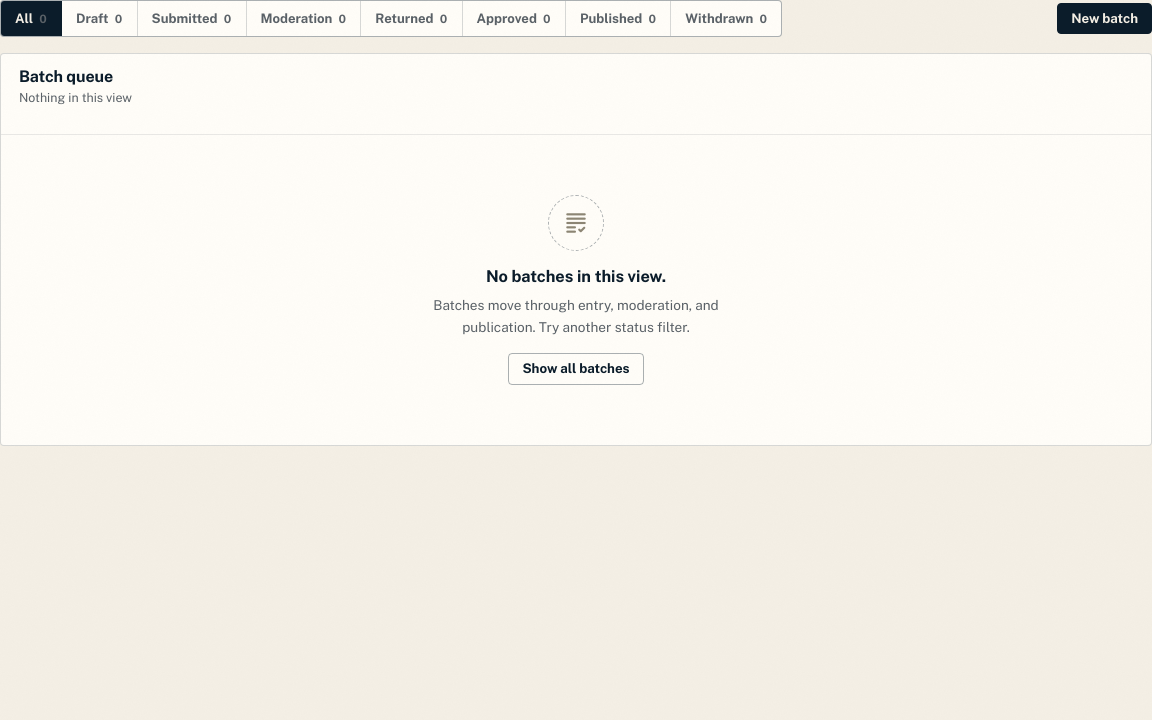
Test: new batch creation › creates the selected batch, refreshes the queue, and announces the reference
Step 1. Click the button "New batch" → (1105, 18), box [1057,2,1151,34]
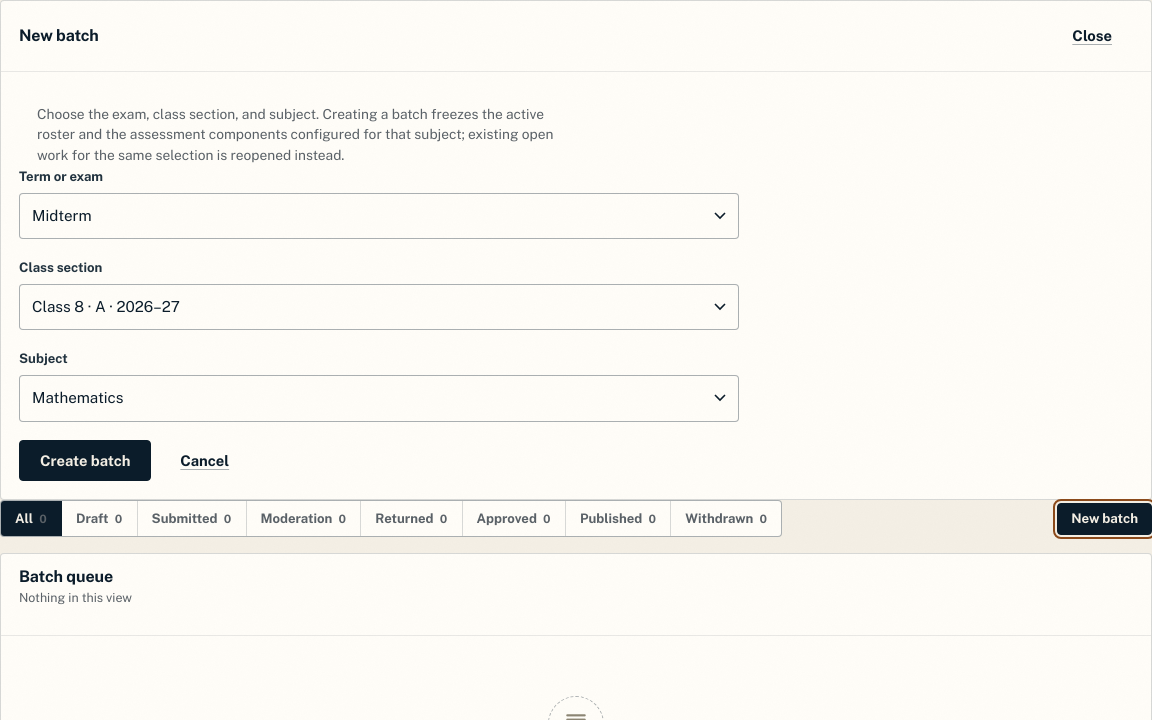
Expected: the heading "New batch" is shown, [19,27,99,45]
Expected: the dropdown labelled "Term or exam" shows "Midterm"
Expected: the dropdown labelled "Class section" shows "Class 8 · A · 2026–27", [19,284,739,330]
Step 2. Select "Final" in the dropdown labelled "Term or exam" → (379, 216), box [19,193,739,239]
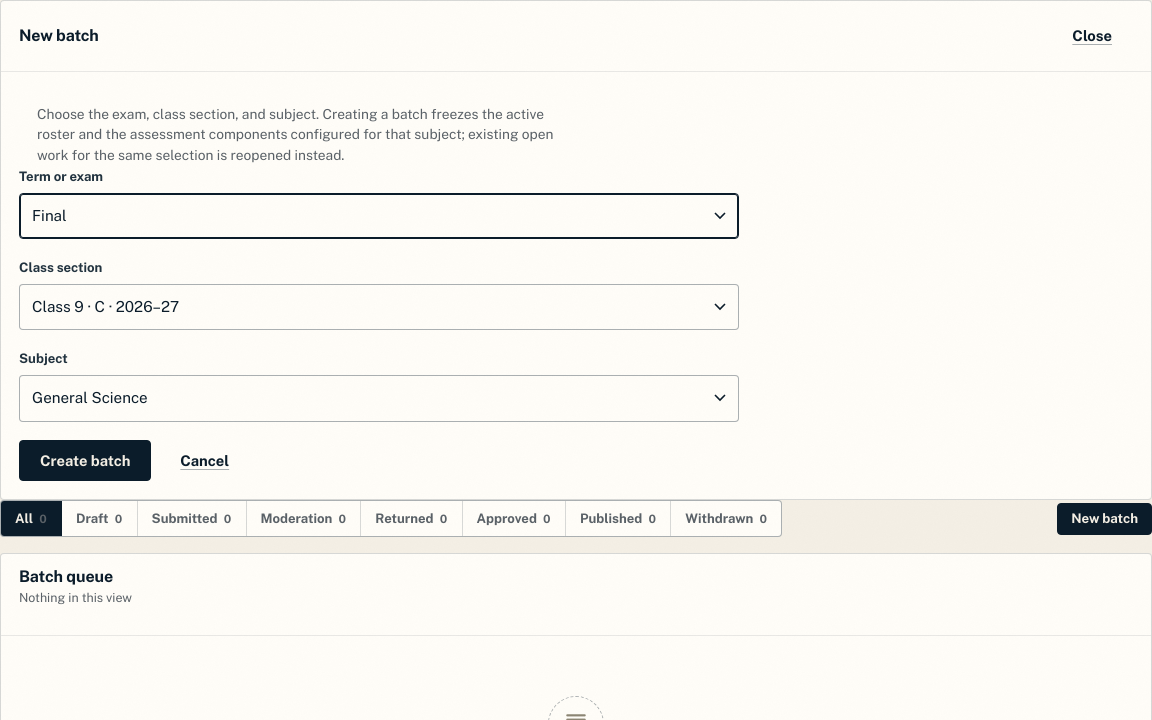
Expected: the option "Mathematics" is not shown
Expected: the dropdown labelled "Class section" shows "Class 9 · C · 2026–27", [19,284,739,330]
Expected: the dropdown labelled "Subject" shows "General Science", [19,375,739,422]
Step 3. Click the button "Create batch" → (85, 460), box [19,440,151,481]
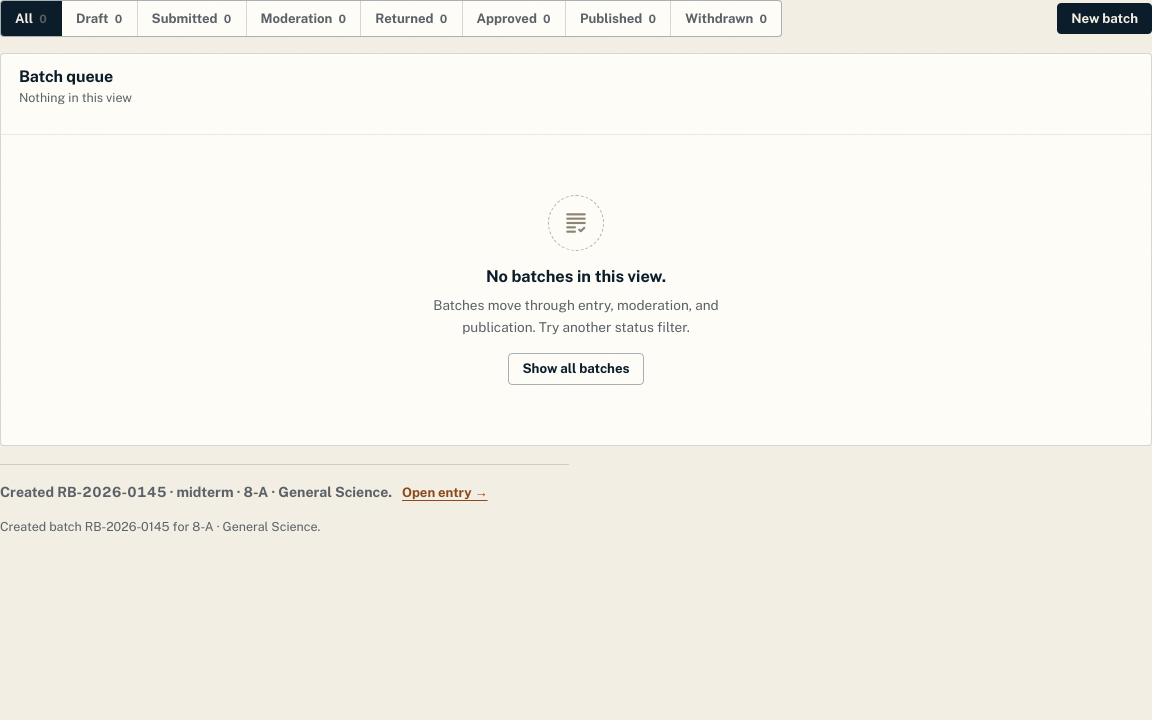
Expected: the text "RB-2026-0145" is shown, [57,484,166,500]
Expected: the text "Created batch RB-2026-0145 for 8-A · General Science." is shown, [0,519,320,534]
